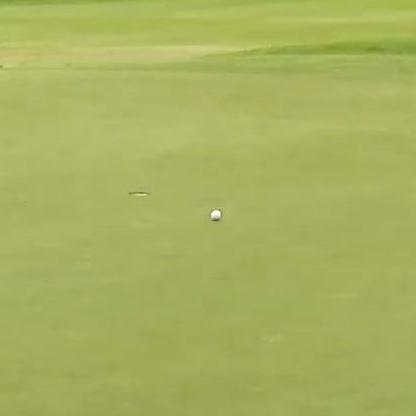golfball: (207, 207, 221, 221)
